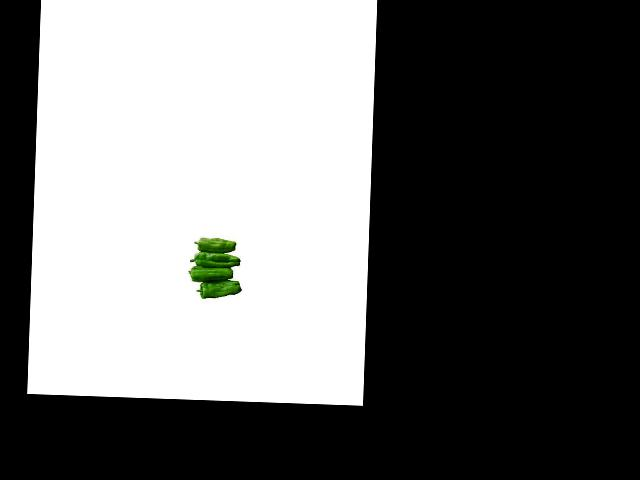bell_pepper: (193, 278, 245, 299)
